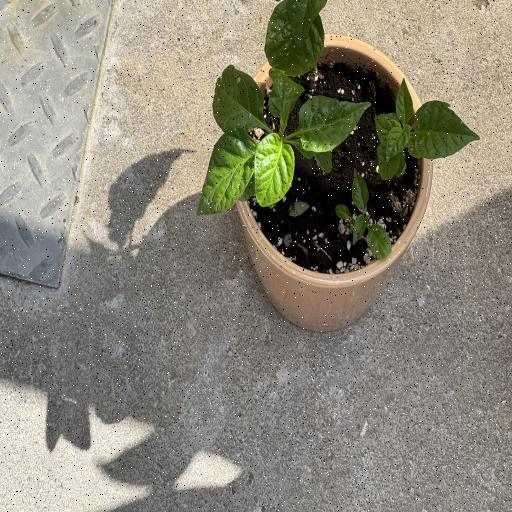Plant Pot: (228, 33, 437, 332)
